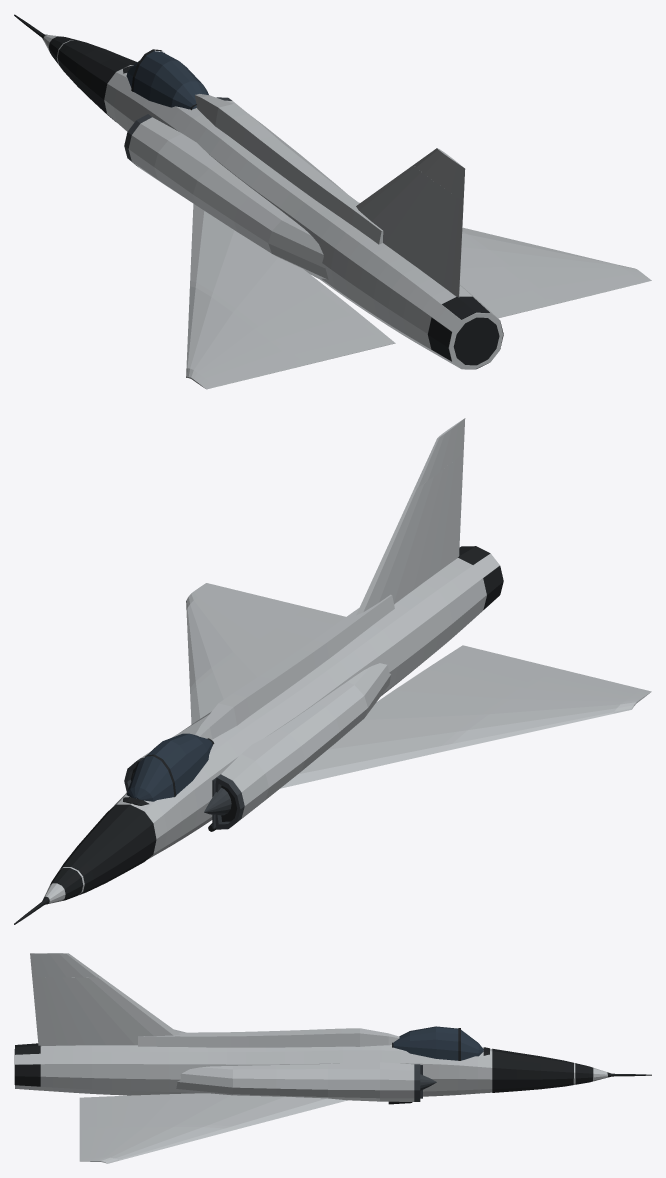
Rendered from mirage3c.glb.
The picture shows the model from 3 angles, top to bottom: view 1: azimuth 30°, elevation 25°; view 2: azimuth 150°, elevation 25°; view 3: azimuth 270°, elevation 25°; orthographic projection. The views are drawn at different scales.
Parts seen in each view (by area): view 1: Fuselage, Wing L, Intake Cheeks, Vertical Fin, Wing R, Dorsal Fairing, Radome, Cockpit Glass, Rudder, Flap L, Aileron L, Aileron R (+3 smaller); view 2: Wing L, Fuselage, Wing R, Intake Cheeks, Vertical Fin, Dorsal Fairing, Radome, Cockpit Glass, Rudder, Flap L, Aileron L, Aileron R (+3 smaller); view 3: Fuselage, Wing R, Intake Cheeks, Vertical Fin, Dorsal Fairing, Radome, Cockpit Glass, Rudder, Flap R, Nozzle, Aileron R.
Part boxes in pixels (x1,y1,x2,y2): Fuselage: (43, 35, 503, 369); Wing L: (186, 204, 395, 389); Intake Cheeks: (128, 100, 345, 282); Vertical Fin: (356, 148, 465, 275); Wing R: (359, 202, 651, 304); Dorsal Fairing: (195, 94, 383, 244); Radome: (41, 34, 137, 121); Cockpit Glass: (126, 51, 208, 109); Rudder: (428, 193, 463, 297); Flap L: (282, 324, 387, 364); Aileron L: (201, 346, 300, 386); Aileron R: (532, 271, 641, 303); Wing L: (280, 645, 651, 788); Fuselage: (44, 553, 499, 903); Wing R: (186, 583, 322, 724); Intake Cheeks: (141, 663, 391, 823); Vertical Fin: (356, 418, 465, 615); Dorsal Fairing: (195, 594, 394, 739); Radome: (42, 804, 156, 904); Cockpit Glass: (126, 733, 212, 801); Rudder: (433, 453, 463, 575); Flap L: (445, 647, 551, 683); Aileron L: (533, 668, 642, 698); Aileron R: (201, 585, 300, 621); Fuselage: (15, 1045, 607, 1096); Wing R: (79, 1093, 347, 1163); Intake Cheeks: (176, 1062, 414, 1101); Vertical Fin: (30, 953, 180, 1045); Dorsal Fairing: (138, 1028, 399, 1047); Radome: (492, 1048, 612, 1092); Cockpit Glass: (393, 1026, 483, 1060); Rudder: (32, 977, 76, 1046); Flap R: (79, 1098, 114, 1127); Nozzle: (15, 1043, 40, 1086); Aileron R: (79, 1128, 113, 1158).
Bounding box in the file's own units: 8.22 × 3.66 × 14.77.
